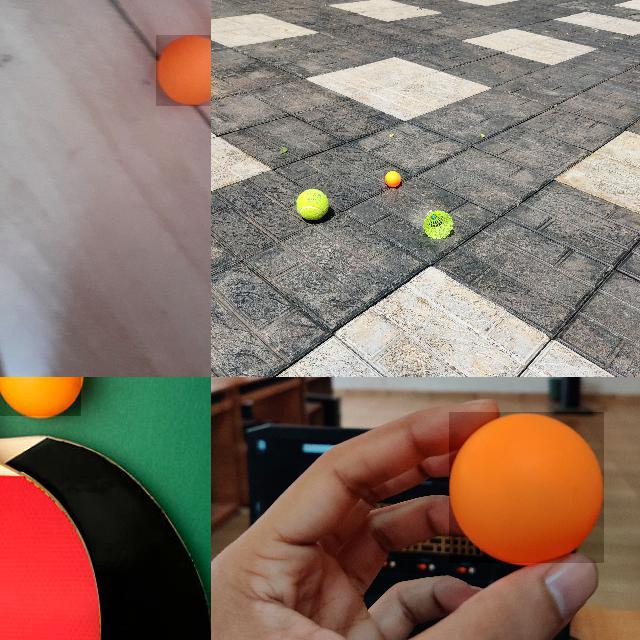ping-pong-ball: (450, 412, 604, 564), (155, 35, 210, 108), (0, 377, 83, 418), (384, 170, 400, 186)
